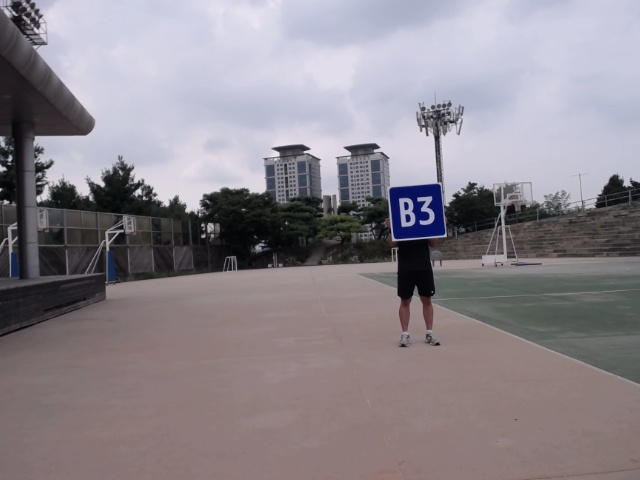delivery_b3: (387, 184, 448, 242)
